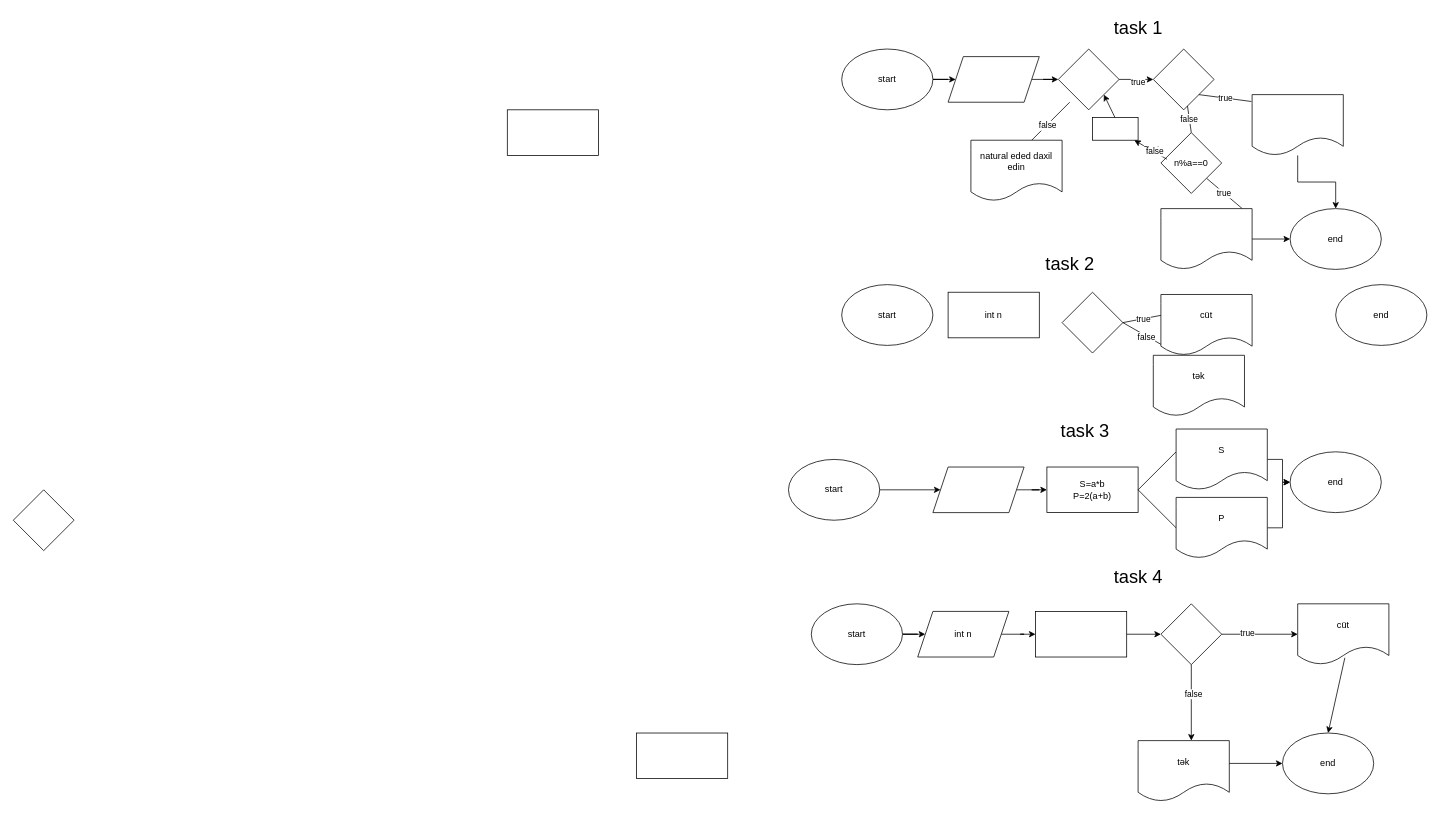
Image size: 1440x815. Some labels were removed from this diagram. The box of each missing label's shape, as (x1, y1, x2, y2) in pixels:
a%2==0: (1160, 603, 1222, 665)
a++: (1092, 117, 1138, 140)
int a == n%3: (1035, 611, 1127, 657)
int a int b: (932, 466, 1024, 513)
int n a=2: (947, 56, 1039, 102)
mürəkkəb: (1160, 208, 1252, 269)
n%2=0: (1061, 291, 1123, 353)
n/a==1: (1153, 48, 1214, 110)
n>0: (1058, 48, 1119, 110)
sade: (1251, 94, 1343, 155)
